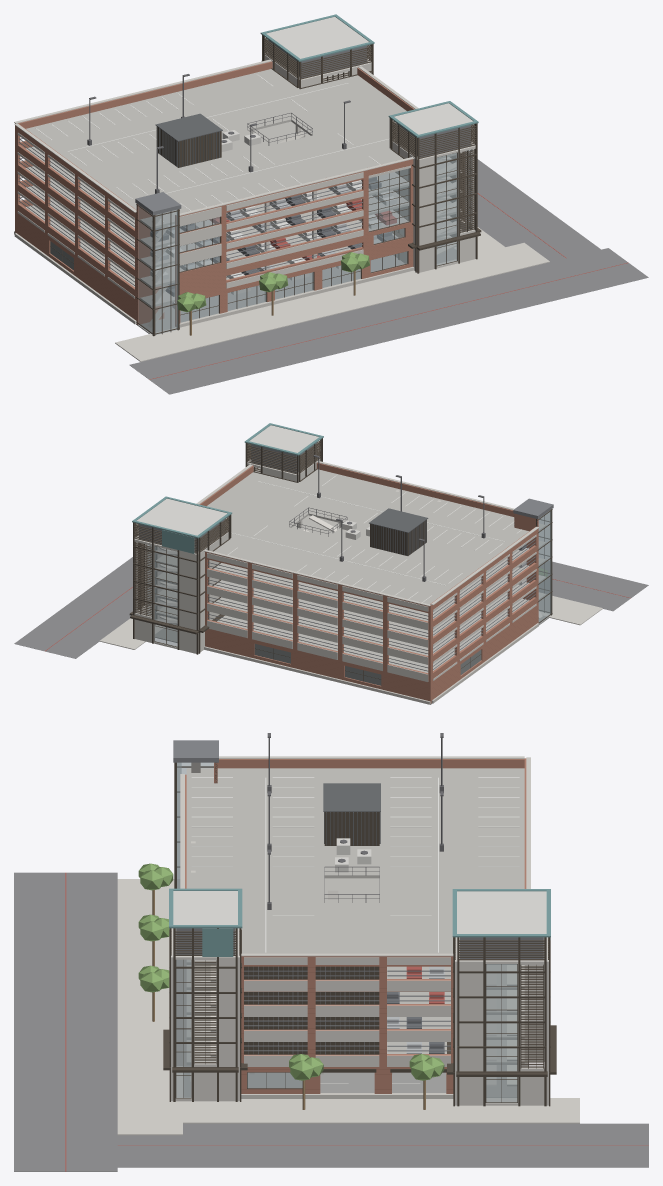
File: clay-brick-parkade-clay-v003.glb
3 views of the same model, one above another, from view 1: azimuth 30°, elevation 25°; view 2: azimuth 150°, elevation 25°; view 3: azimuth 270°, elevation 25° (orthographic). The views are drawn at different scales.
Parts seen in each view (by area): view 1: CLAY_FLOOR, CLAY_CONCRETE, CLAY_ASPHALT, CLAY_WALL, CLAY_BRONZE, CLAY_GLASS, CLAY_METAL, CLAY_PALE, CLAY_FOUNDATION, CLAY_TRIM, CLAY_CAR_WHITE, CLAY_STONE (+7 smaller); view 2: CLAY_FLOOR, CLAY_CONCRETE, CLAY_WALL, CLAY_BRONZE, CLAY_ASPHALT, CLAY_METAL, CLAY_GLASS, CLAY_PALE, CLAY_TRIM, CLAY_PATINA, CLAY_STONE, CLAY_WHITE (+1 smaller); view 3: CLAY_FLOOR, CLAY_ASPHALT, CLAY_CONCRETE, CLAY_BRONZE, CLAY_WALL, CLAY_GLASS, CLAY_METAL, CLAY_PALE, CLAY_FOUNDATION, CLAY_PLANTING, CLAY_PATINA, CLAY_WHITE (+4 smaller).
Boxes of the visible parts, x1=… form: CLAY_FLOOR: x1=25, y1=68, x2=462, y2=307; CLAY_CONCRETE: x1=14, y1=55, x2=549, y2=361; CLAY_ASPHALT: x1=129, y1=154, x2=648, y2=394; CLAY_WALL: x1=15, y1=61, x2=414, y2=326; CLAY_BRONZE: x1=50, y1=35, x2=481, y2=336; CLAY_GLASS: x1=50, y1=149, x2=472, y2=334; CLAY_METAL: x1=18, y1=40, x2=470, y2=285; CLAY_PALE: x1=172, y1=17, x2=473, y2=308; CLAY_FOUNDATION: x1=136, y1=244, x2=456, y2=333; CLAY_TRIM: x1=155, y1=113, x2=222, y2=167; CLAY_CAR_WHITE: x1=150, y1=180, x2=396, y2=280; CLAY_STONE: x1=14, y1=231, x2=414, y2=327; CLAY_FLOOR: x1=155, y1=468, x2=546, y2=672; CLAY_CONCRETE: x1=99, y1=459, x2=602, y2=681; CLAY_WALL: x1=200, y1=462, x2=538, y2=703; CLAY_BRONZE: x1=129, y1=438, x2=552, y2=685; CLAY_ASPHALT: x1=14, y1=545, x2=648, y2=658; CLAY_METAL: x1=139, y1=442, x2=553, y2=671; CLAY_GLASS: x1=147, y1=510, x2=551, y2=685; CLAY_PALE: x1=136, y1=425, x2=369, y2=539; CLAY_TRIM: x1=369, y1=508, x2=428, y2=555; CLAY_PATINA: x1=132, y1=423, x2=323, y2=553; CLAY_STONE: x1=204, y1=623, x2=538, y2=704; CLAY_WHITE: x1=228, y1=475, x2=521, y2=602; CLAY_FLOOR: x1=186, y1=768, x2=524, y2=1064; CLAY_ASPHALT: x1=14, y1=872, x2=648, y2=1171; CLAY_CONCRETE: x1=117, y1=756, x2=579, y2=1135; CLAY_BRONZE: x1=163, y1=762, x2=556, y2=1106; CLAY_WALL: x1=185, y1=758, x2=526, y2=1093; CLAY_GLASS: x1=176, y1=762, x2=517, y2=1102; CLAY_METAL: x1=173, y1=740, x2=543, y2=1054; CLAY_PALE: x1=173, y1=838, x2=546, y2=933; CLAY_FOUNDATION: x1=183, y1=1062, x2=528, y2=1097; CLAY_PLANTING: x1=138, y1=863, x2=444, y2=1080; CLAY_PATINA: x1=169, y1=888, x2=550, y2=956; CLAY_WHITE: x1=191, y1=777, x2=519, y2=1084.
Bounding box in the file's own units: 82 × 24.88 × 73.6.
